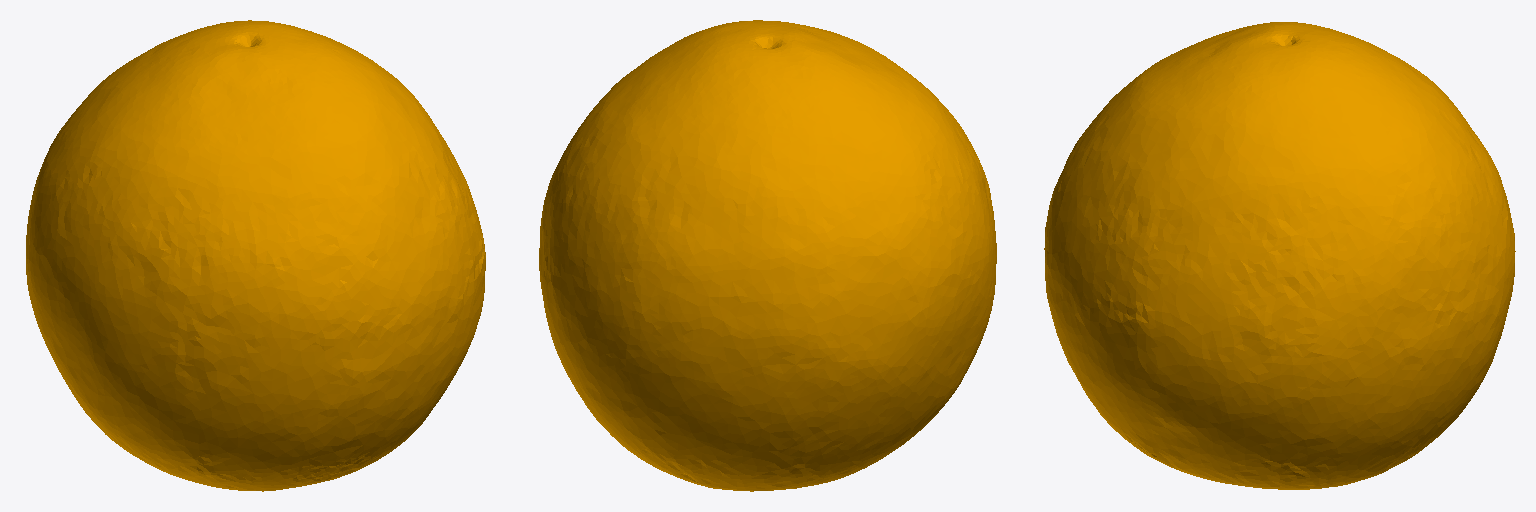
URDF robot description (orange):
<?xml version="1.0"?>
<robot name="orange">
  <link name="orange">
    <visual>
      <origin xyz="0.0 0.0 0.0"/>
      <geometry>
        <mesh filename="textured.obj"/>
      </geometry>
    </visual>
    <collision>
      <origin xyz="0.0 0.0 0.0"/>
      <geometry>
        <mesh filename="textured.obj"	/>
      </geometry>
    </collision>
    <inertial>
      <mass value="0.068"/>
      <inertia ixx="0.0001" ixy="0.0" ixz="0.0" iyy="0.0001" iyz="0.0" izz="0.0001"/>
    </inertial>
  </link>
</robot>

--- Facts derived from the render (not from the file) ---
The picture shows the robot from 3 angles, left to right: view 1: azimuth 30°, elevation 25°; view 2: azimuth 150°, elevation 25°; view 3: azimuth 270°, elevation 25°; orthographic projection.
Model orange with 1 links and 0 joints (none), rooted at orange, posed all joints at 0.
Visible links, largest first — view 1: orange; view 2: orange; view 3: orange.
Boxes of the visible links, x1=… form: orange: x1=26, y1=20, x2=485, y2=491; orange: x1=539, y1=20, x2=996, y2=491; orange: x1=1044, y1=22, x2=1515, y2=489.
Size in the robot's own frame: 0.0722 by 0.074 by 0.0714 metres.
Meshes: 1 distinct files referenced, 1 mesh visuals loaded (1 OBJ).
